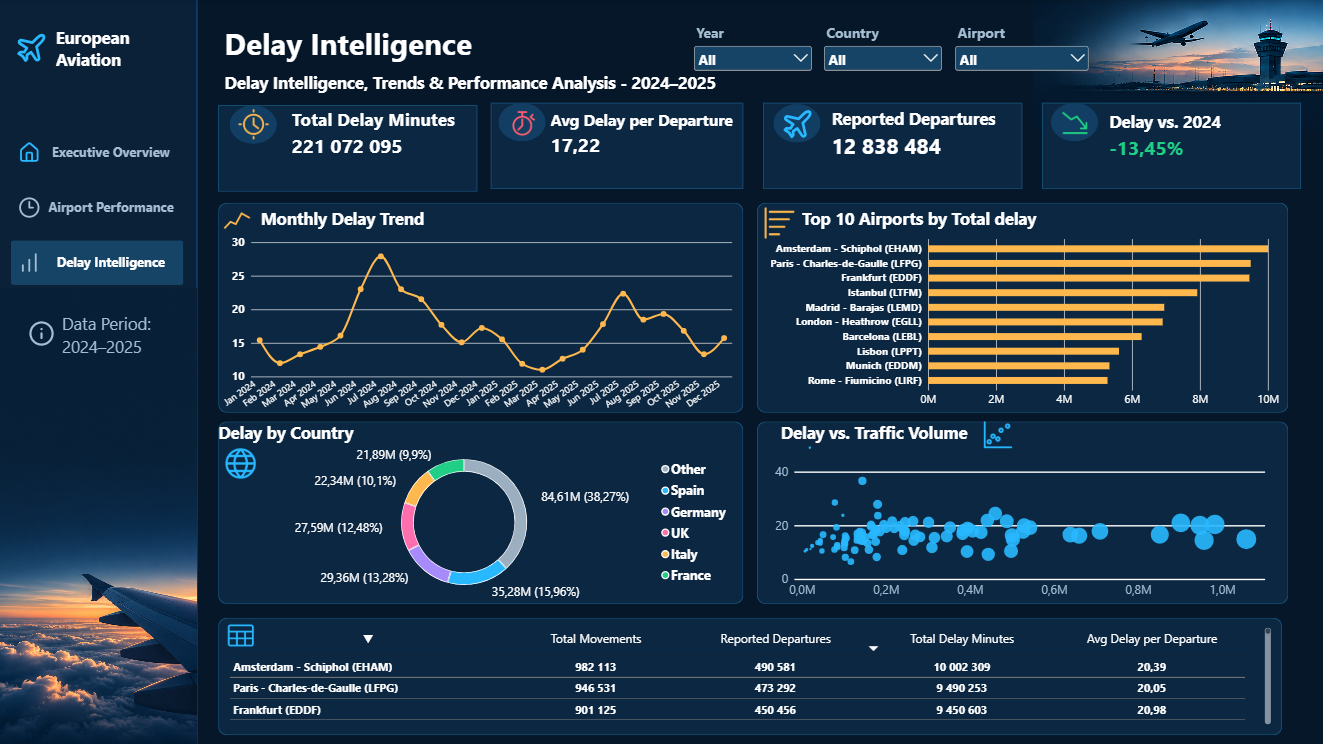

This screenshot's page, from the dashboard's own definition file:
{"tool":"powerbi","page":{"name":"Delay Intelligence","canvas":[1920,1080],"ordinal":2},"visuals":[{"type":"image","box":[1500.2,0,419.8,190],"z":0},{"type":"shape","box":[0,0,290,1080],"z":1000},{"type":"textbox","box":[85,40,195,100],"z":2000},{"type":"image","box":[25,47,48,48],"z":3000},{"type":"actionButton","box":[20,190,250,65],"z":4000},{"type":"actionButton","box":[20,270,250,65],"z":5000},{"type":"actionButton","box":[20,350,250,65],"z":6000},{"type":"image","box":[30,206,32,32],"z":7000},{"type":"image","box":[30,286,32,32],"z":8000},{"type":"image","box":[30,366,32,32],"z":9000},{"type":"textbox","box":[330,35,700,75],"z":10000},{"type":"textbox","box":[329.4,105,785.4,45.2],"z":11000},{"type":"slicer","fields":{"Values":["Airport Operations.apt_name"]},"box":[1382.6,34.4,202.7,76],"z":12000},{"type":"slicer","fields":{"Values":["Airport Operations.state_name"]},"box":[1192.6,34.4,180,75],"z":13000},{"type":"slicer","fields":{"Values":["Airport Operations.year"]},"box":[1004.4,34.4,180,75],"z":14000},{"type":"shape","box":[320.3,153.8,375,125],"z":15000},{"type":"shape","box":[1512.9,150.2,375,125],"z":16000},{"type":"shape","box":[1109.3,150.2,375,125],"z":17000},{"type":"shape","box":[714.8,150.2,365.6,124.9],"z":18000},{"type":"shape","box":[336.6,153.8,68.8,56.1],"z":19000},{"type":"image","box":[347.5,157.4,48,48],"z":20000},{"type":"shape","box":[725.7,150.2,68.8,56.1],"z":21000},{"type":"image","box":[736.5,157.4,48,48],"z":22000},{"type":"shape","box":[1123.8,152,68.8,56.1],"z":23000},{"type":"image","box":[1134.7,157.4,48,48],"z":24000},{"type":"shape","box":[1525.5,150.2,68.8,56.1],"z":25000},{"type":"image","box":[1536.4,153.8,48,48],"z":26000},{"type":"shape","box":[320.3,295,760.1,304],"z":27000},{"type":"textbox","box":[381.8,302.2,647.9,47.1],"z":28000},{"type":"shape","box":[320.3,611.7,760.1,264.2],"z":29000},{"type":"image","box":[0,418,289.5,662.3],"z":30000},{"type":"textbox","box":[95,455,175,75],"z":31000},{"type":"image","box":[45,465,38,38],"z":32000},{"type":"shape","box":[1100.3,295,769.1,304],"z":33000},{"type":"textbox","box":[1165.4,302.2,562.8,32.6],"z":34000},{"type":"shape","box":[1100.3,611.7,769.1,264.2],"z":35000},{"type":"shape","box":[320.3,895,1540,170],"z":36000},{"type":"textbox","box":[321.1,611.3,216.1,63.8],"z":37000},{"type":"textbox","box":[1134.1,611.3,524.9,41.2],"z":38000},{"type":"cardVisual","fields":{"Data":["Airport Operations.Avg Delay per Departure"]},"box":[785.4,135.7,340.2,119.4],"z":39000},{"type":"cardVisual","fields":{"Data":["Airport Operations.Total Delay Minutes"]},"box":[410.8,110.4,289.5,168.3],"z":40000},{"type":"cardVisual","fields":{"Data":["Airport Operations.Delay YoY Growth %"]},"box":[1594.3,139.3,325.7,119.4],"z":41000},{"type":"cardVisual","fields":{"Data":["Airport Operations.Reported Departures"]},"box":[1192.6,135.7,340.2,119.4],"z":42000},{"type":"lineChart","fields":{"Category":["Airport Operations.Month Year EN"],"Y":["Airport Operations.Avg Delay per Departure"]},"box":[307.6,325.7,772.7,300.4],"z":43000},{"type":"clusteredBarChart","fields":{"Category":["Airport Operations.Airport Display"],"Y":["Airport Operations.Total Delay Minutes"]},"box":[1101.2,325.2,819.2,286.1],"z":44000},{"type":"donutChart","fields":{"Category":["Delay Country Groups.Country Group"],"Y":["Airport A Selector.Delay Minutes by Country Group"]},"box":[376.7,625.7,703.9,263.5],"z":45000},{"type":"scatterChart","fields":{"Category":["Airport Operations.Airport Display"],"Size":["Airport Operations.Reported Departures"],"X":["Airport Operations.Total Movements"],"Y":["Airport Operations.Avg Delay per Departure"]},"box":[1109.4,611.3,761.6,275.8],"z":46000},{"type":"tableEx","fields":{"Values":["Airport Operations.Airport Display","Airport Operations.Total Movements","Airport Operations.Reported Departures","Airport Operations.Total Delay Minutes","Airport Operations.Avg Delay per Departure"]},"box":[320.3,895.8,1540,170.1],"z":47000},{"type":"image","box":[323.9,293.2,47.1,50.7],"z":48000},{"type":"image","box":[1105.7,295,57.9,54.3],"z":49000},{"type":"image","box":[1415.2,606.2,65.1,50.7],"z":50000},{"type":"image","box":[320.3,642.4,65.1,59.7],"z":51000},{"type":"image","box":[329.4,895.8,47.1,50.7],"z":52000}]}

Visuals, with their boxes on the page's 1920x1080 design canvas (x1, y1, x2, y2). These are canvas units, not pixel positions in the 1323x744 screenshot, which may show the page scaled, cropped or inside an application window:
image: region(1500, 0, 1920, 190)
shape: region(0, 0, 290, 1080)
textbox: region(85, 40, 280, 140)
image: region(25, 47, 73, 95)
actionButton: region(20, 190, 270, 255)
actionButton: region(20, 270, 270, 335)
actionButton: region(20, 350, 270, 415)
image: region(30, 206, 62, 238)
image: region(30, 286, 62, 318)
image: region(30, 366, 62, 398)
textbox: region(330, 35, 1030, 110)
textbox: region(329, 105, 1115, 150)
slicer - Airport Operations.apt_name: region(1383, 34, 1585, 110)
slicer - Airport Operations.state_name: region(1193, 34, 1373, 109)
slicer - Airport Operations.year: region(1004, 34, 1184, 109)
shape: region(320, 154, 695, 279)
shape: region(1513, 150, 1888, 275)
shape: region(1109, 150, 1484, 275)
shape: region(715, 150, 1080, 275)
shape: region(337, 154, 405, 210)
image: region(348, 157, 396, 205)
shape: region(726, 150, 794, 206)
image: region(736, 157, 784, 205)
shape: region(1124, 152, 1193, 208)
image: region(1135, 157, 1183, 205)
shape: region(1526, 150, 1594, 206)
image: region(1536, 154, 1584, 202)
shape: region(320, 295, 1080, 599)
textbox: region(382, 302, 1030, 349)
shape: region(320, 612, 1080, 876)
image: region(0, 418, 290, 1080)
textbox: region(95, 455, 270, 530)
image: region(45, 465, 83, 503)
shape: region(1100, 295, 1869, 599)
textbox: region(1165, 302, 1728, 335)
shape: region(1100, 612, 1869, 876)
shape: region(320, 895, 1860, 1065)
textbox: region(321, 611, 537, 675)
textbox: region(1134, 611, 1659, 652)
cardVisual - Airport Operations.Avg Delay per Departure: region(785, 136, 1126, 255)
cardVisual - Airport Operations.Total Delay Minutes: region(411, 110, 700, 279)
cardVisual - Airport Operations.Delay YoY Growth %: region(1594, 139, 1920, 259)
cardVisual - Airport Operations.Reported Departures: region(1193, 136, 1533, 255)
lineChart - Airport Operations.Month Year EN x Airport Operations.Avg Delay per Departure: region(308, 326, 1080, 626)
clusteredBarChart - Airport Operations.Airport Display x Airport Operations.Total Delay Minutes: region(1101, 325, 1920, 611)
donutChart - Delay Country Groups.Country Group x Airport A Selector.Delay Minutes by Country Group: region(377, 626, 1081, 889)
scatterChart - Airport Operations.Airport Display x Airport Operations.Reported Departures: region(1109, 611, 1871, 887)
tableEx - Airport Operations.Airport Display x Airport Operations.Total Movements: region(320, 896, 1860, 1066)
image: region(324, 293, 371, 344)
image: region(1106, 295, 1164, 349)
image: region(1415, 606, 1480, 657)
image: region(320, 642, 385, 702)
image: region(329, 896, 376, 946)
